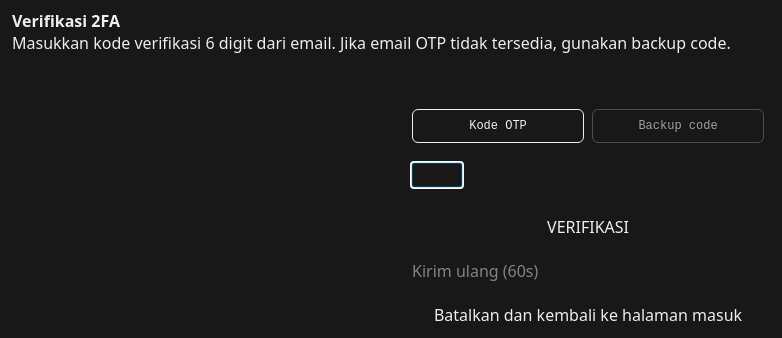
Test: Verify2FAPage backup code mode › bisa switch ke mode backup code
This screenshot has width=782, height=338.
Click the button "Backup code".
click(678, 126)  # box [592, 109, 764, 143]
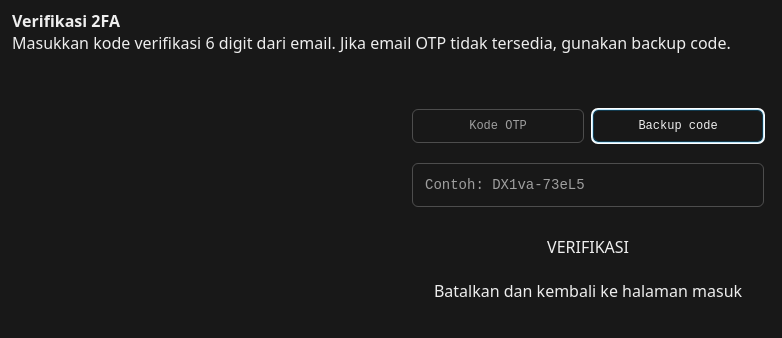
Check: the field with placeholder "Contoh: DX1va-73eL5" is shown, box [412, 163, 764, 207]
